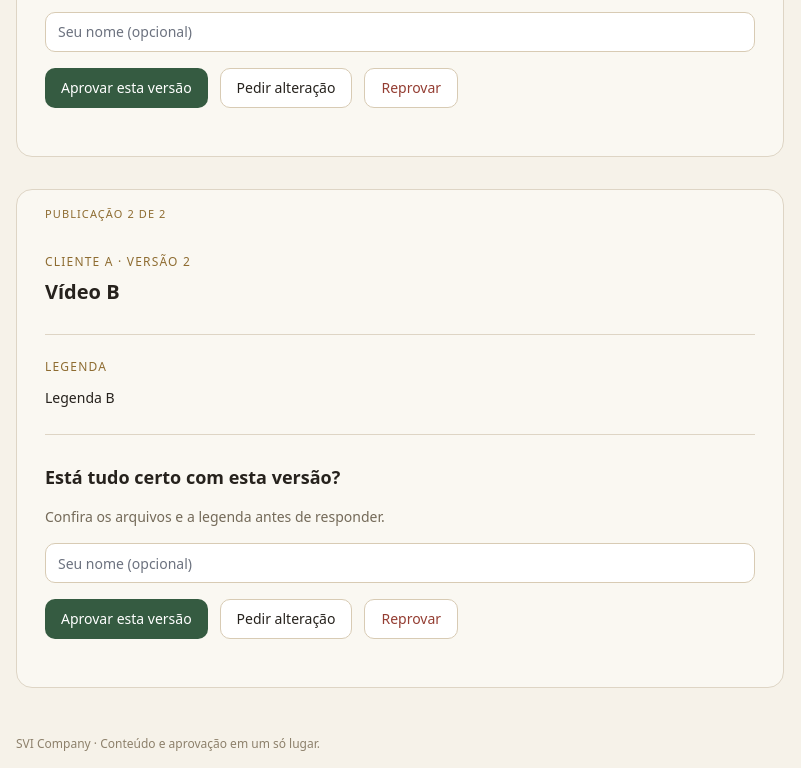
Test: client reviews several pieces on one page › sends the reason for the right piece and keeps it separate from approval
(page scrolled)
Type "Maria" into the field labelled "Seu nome" below "Legenda B" at coordinates (400, 563), box [45,543,755,583]
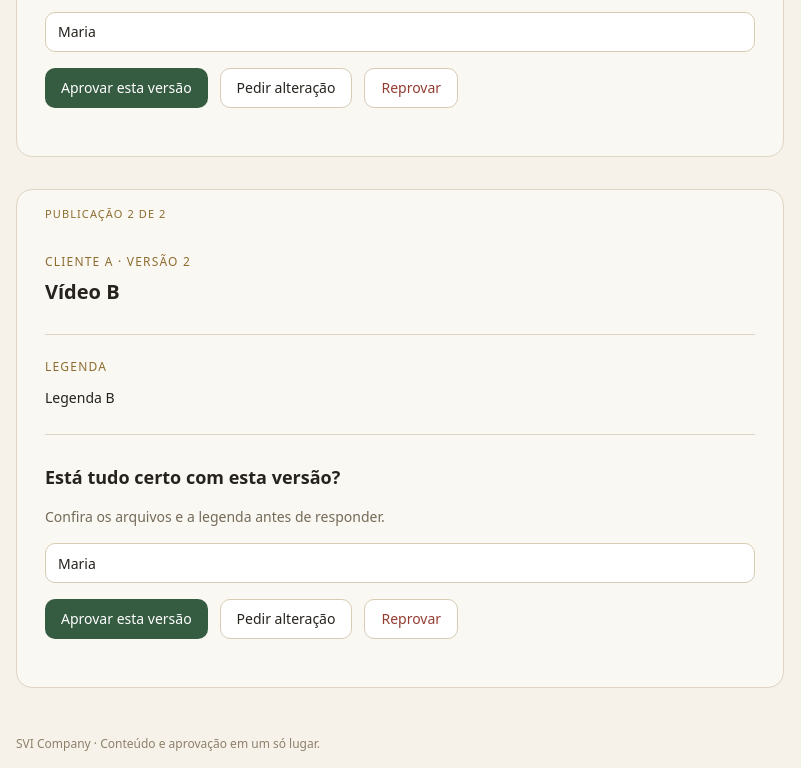
Click the button "Pedir alteração" below "Legenda B" at coordinates (286, 619), box [220,599,352,639]
(page scrolled)
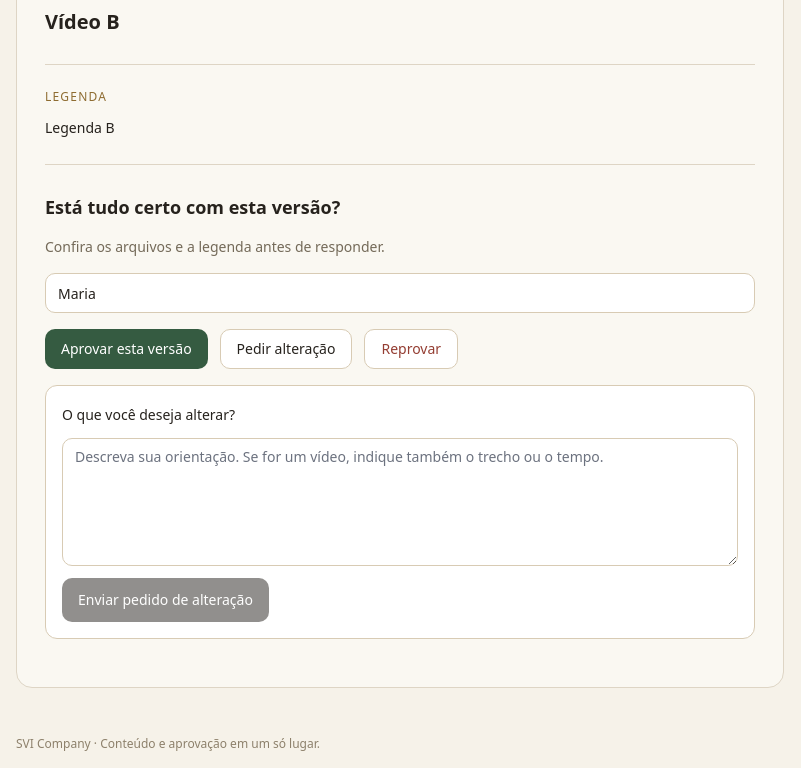
Replace the text in the text box labelled "O que você deseja alterar?" with "Trocar a frase aos 15 segundos." at coordinates (400, 502), box [62,438,738,566]
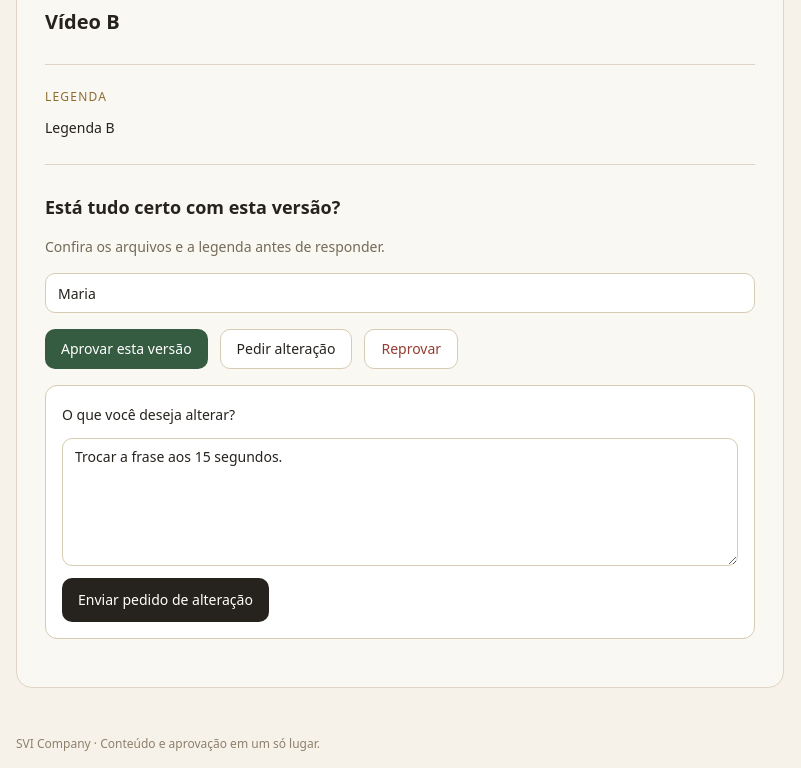
Click the button "Enviar pedido de alteração" at coordinates (165, 600), box [62,578,269,622]
(page scrolled)
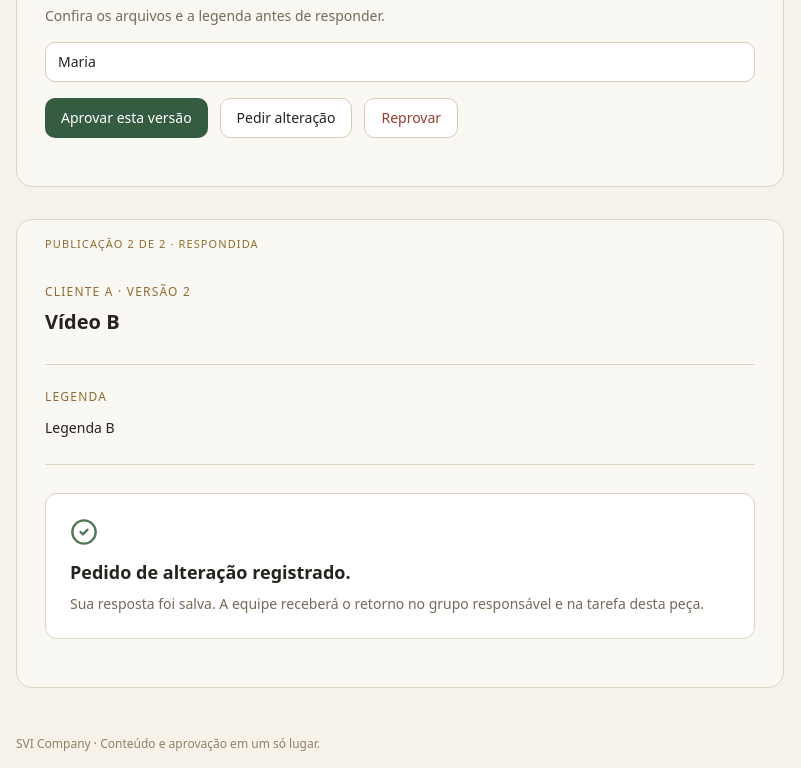
Expected: the heading "Pedido de alteração registrado." is shown, [70,560,351,584]
